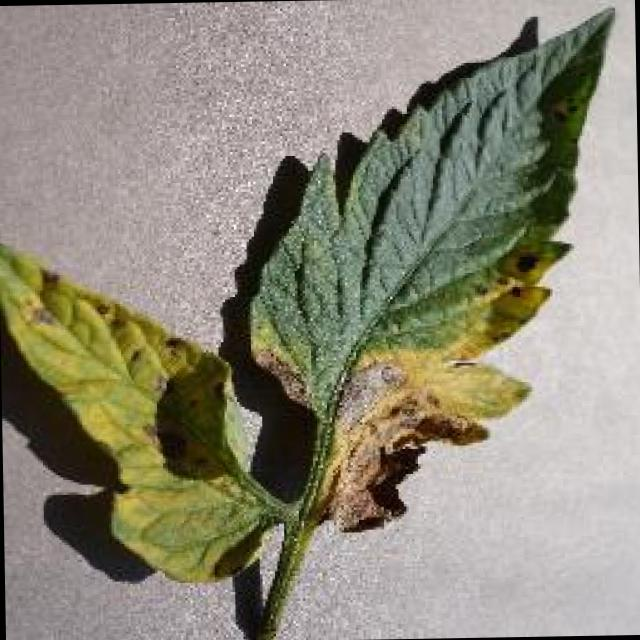Tomato_Early_Blight: (23, 252, 622, 578)
